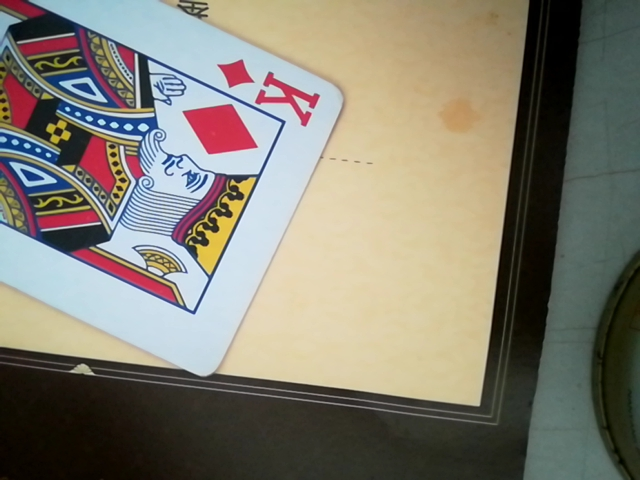fk k: (3, 0, 347, 383)
